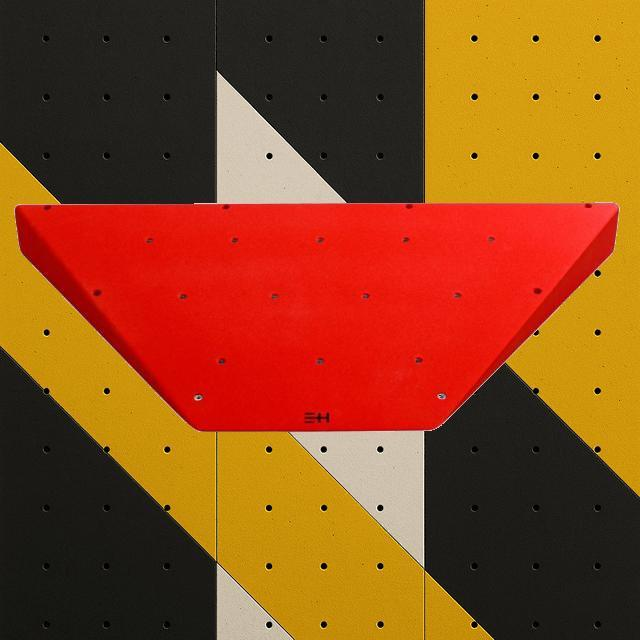Volume: (14, 200, 620, 432)
